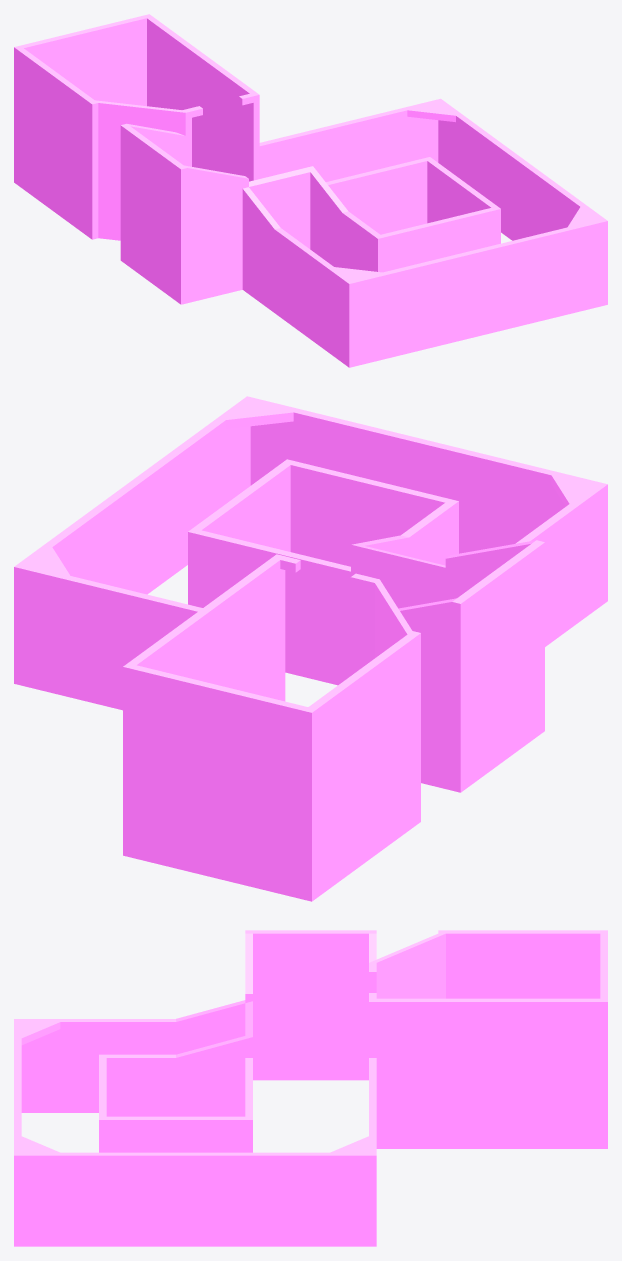
Rendered from Hole 5 Trim.glb.
3 views of the same model, one above another, from view 1: azimuth 30°, elevation 25°; view 2: azimuth 150°, elevation 25°; view 3: azimuth 270°, elevation 25° (orthographic). The views are drawn at different scales.
Visible parts, largest first — view 1: Hole 5 Trim; view 2: Hole 5 Trim; view 3: Hole 5 Trim.
Boxes of the visible parts, x1,y1,x2,y2 form: Hole 5 Trim: (14, 14, 607, 367); Hole 5 Trim: (14, 396, 607, 901); Hole 5 Trim: (14, 930, 607, 1246).
Size of what is drawn, in the model's own units: 10.4 by 4.2 by 15.4.
